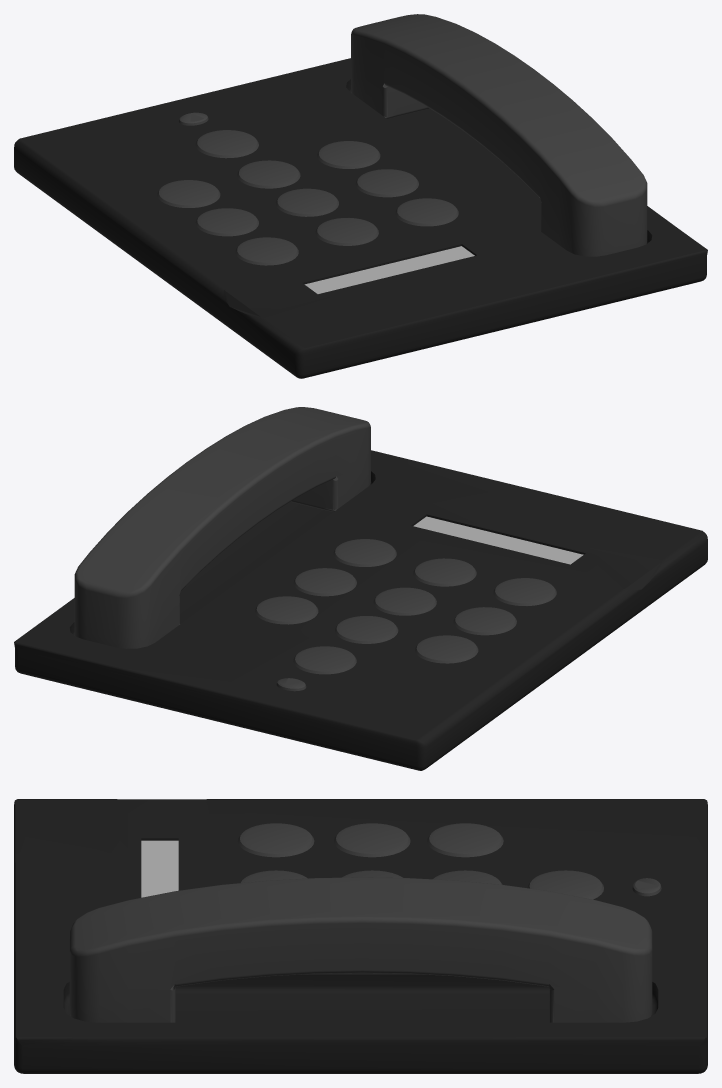
File: telephoneMFKK.fbx
The picture shows the model from 3 angles, top to bottom: view 1: azimuth 30°, elevation 25°; view 2: azimuth 150°, elevation 25°; view 3: azimuth 270°, elevation 25°; orthographic projection. The views are drawn at different scales.
Parts seen in each view (by area): view 1: telephone, 1, 6, 8, 4, 3, 5, 0, 2, 7, 9; view 2: telephone, 7, 9, 5, 0, 6, 2, 4, 1, 3, 8; view 3: telephone, 9, 6, 3, 0, 8, 2, comfirm.
Boxes of the visible parts, x1,y1,x2,y2 form: telephone: [14, 14, 707, 378]; 1: [395, 198, 458, 226]; 6: [195, 208, 258, 236]; 8: [237, 160, 300, 188]; 4: [355, 169, 418, 197]; 3: [235, 237, 298, 265]; 5: [275, 188, 338, 216]; 0: [195, 130, 258, 158]; 2: [315, 218, 378, 245]; 7: [317, 141, 380, 168]; 9: [157, 180, 220, 207]; telephone: [14, 407, 707, 770]; 7: [255, 596, 318, 624]; 9: [415, 635, 478, 663]; 5: [373, 587, 436, 615]; 0: [293, 646, 356, 674]; 6: [453, 607, 516, 635]; 2: [413, 558, 476, 586]; 4: [293, 568, 356, 596]; 1: [333, 539, 396, 566]; 3: [493, 578, 556, 605]; 8: [335, 616, 398, 643]; telephone: [14, 799, 707, 1073]; 9: [427, 823, 503, 857]; 6: [334, 823, 410, 857]; 3: [238, 823, 314, 857]; 0: [527, 870, 603, 899]; 8: [433, 870, 502, 884]; 2: [240, 870, 307, 882]; comfirm: [632, 878, 661, 896].
Size of the model in its own units: 81.07 by 21.86 by 98.09.
